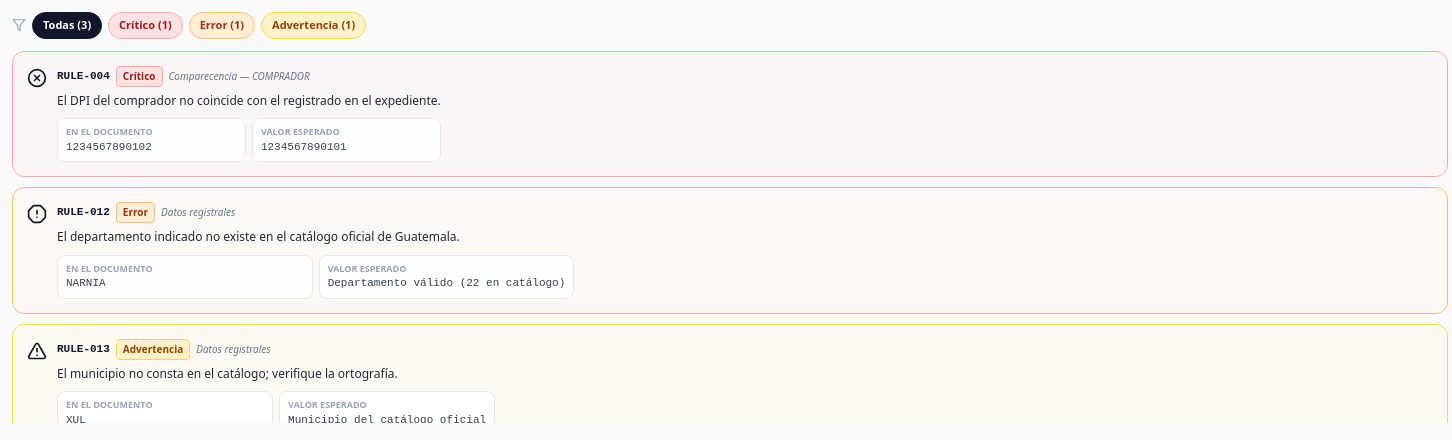
FindingsPanel › filtra los hallazgos al pulsar un nivel de severidad
The image size is (1452, 440).
Click the button "Crítico (1)" at (145, 25), box [108, 12, 183, 38]
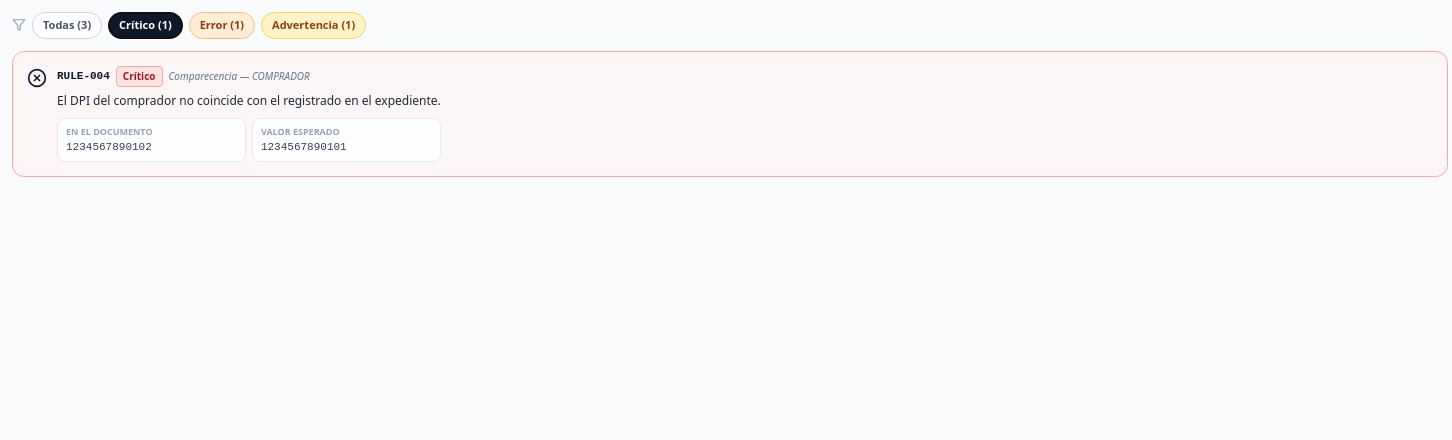
Expected: the text "RULE-004" is shown, [57, 68, 110, 84]
Expected: the text "RULE-012" is gone
Click the button "Todas (3)" at (67, 25), box [32, 12, 102, 38]
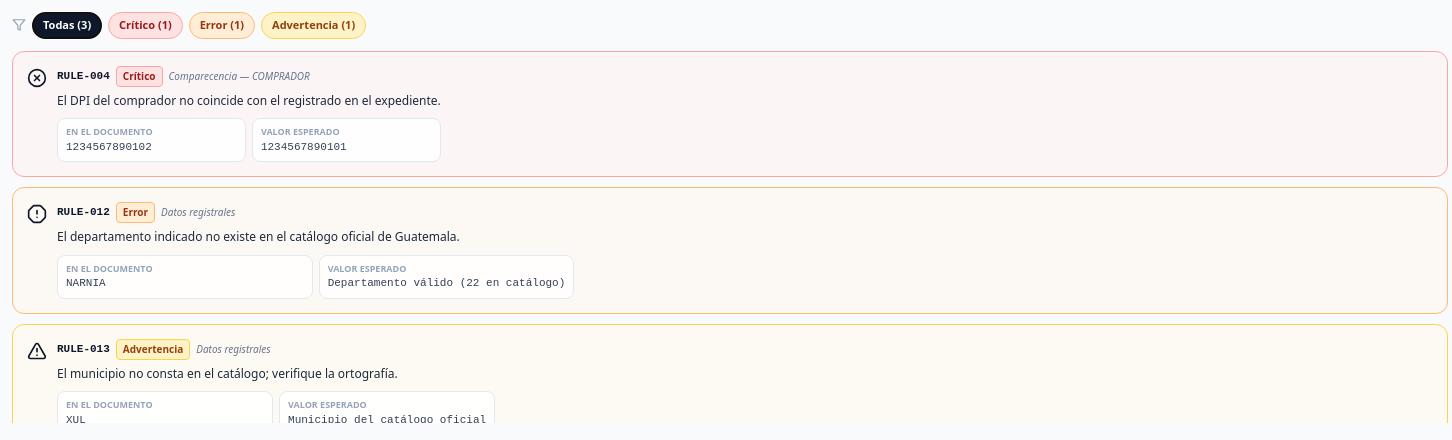
Expected: the text "RULE-012" is shown, [57, 204, 110, 221]
